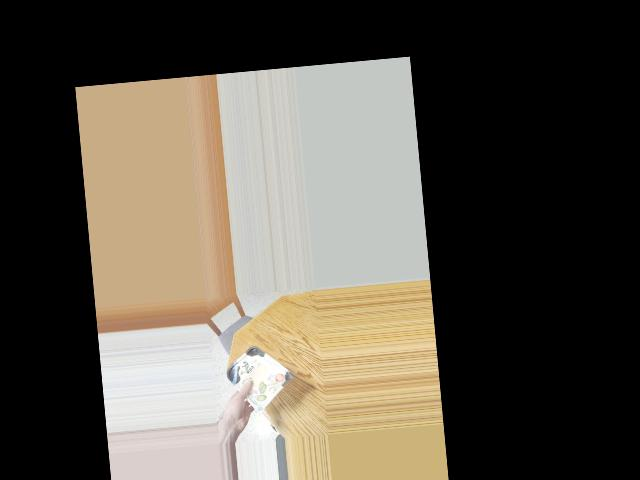cheese: (228, 351, 287, 395)
